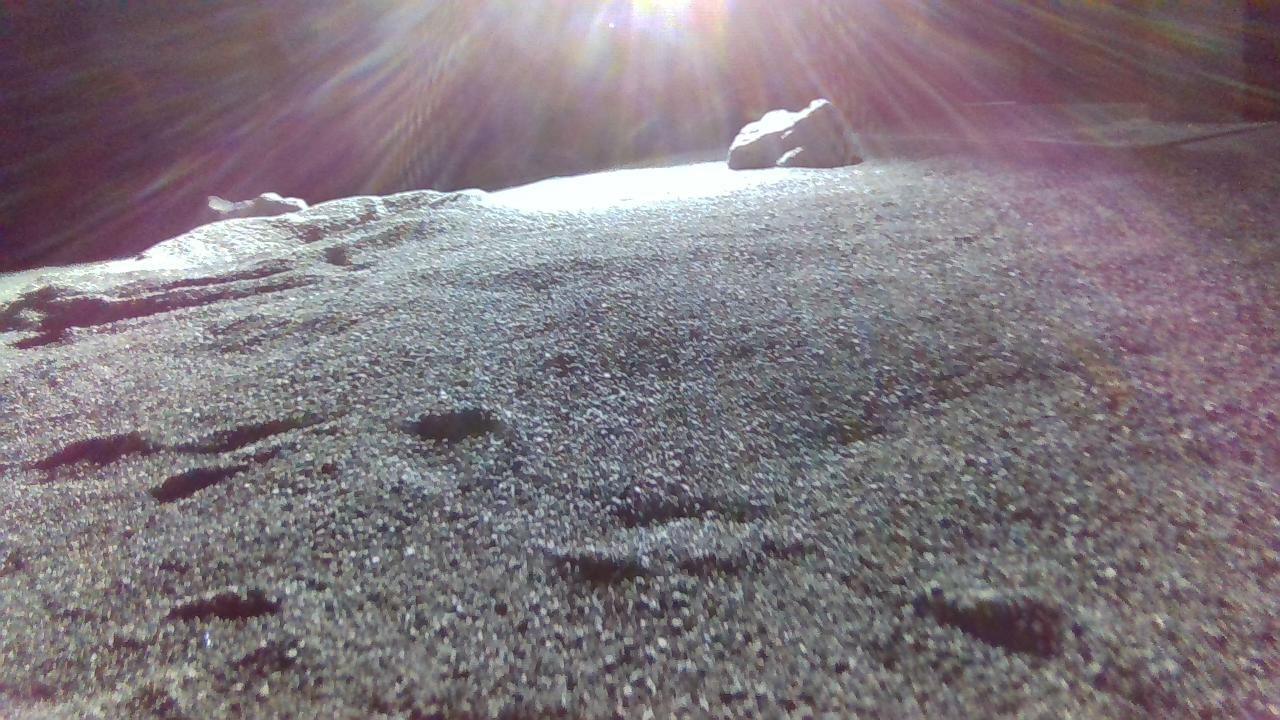rock: (729, 97, 864, 168), (203, 191, 307, 222)
